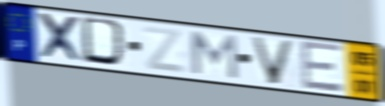D: (80, 15, 131, 70)
E: (298, 38, 347, 94)
M: (189, 29, 240, 82)
V: (248, 35, 298, 87)
X: (35, 11, 86, 65)
Z: (140, 24, 188, 76)
